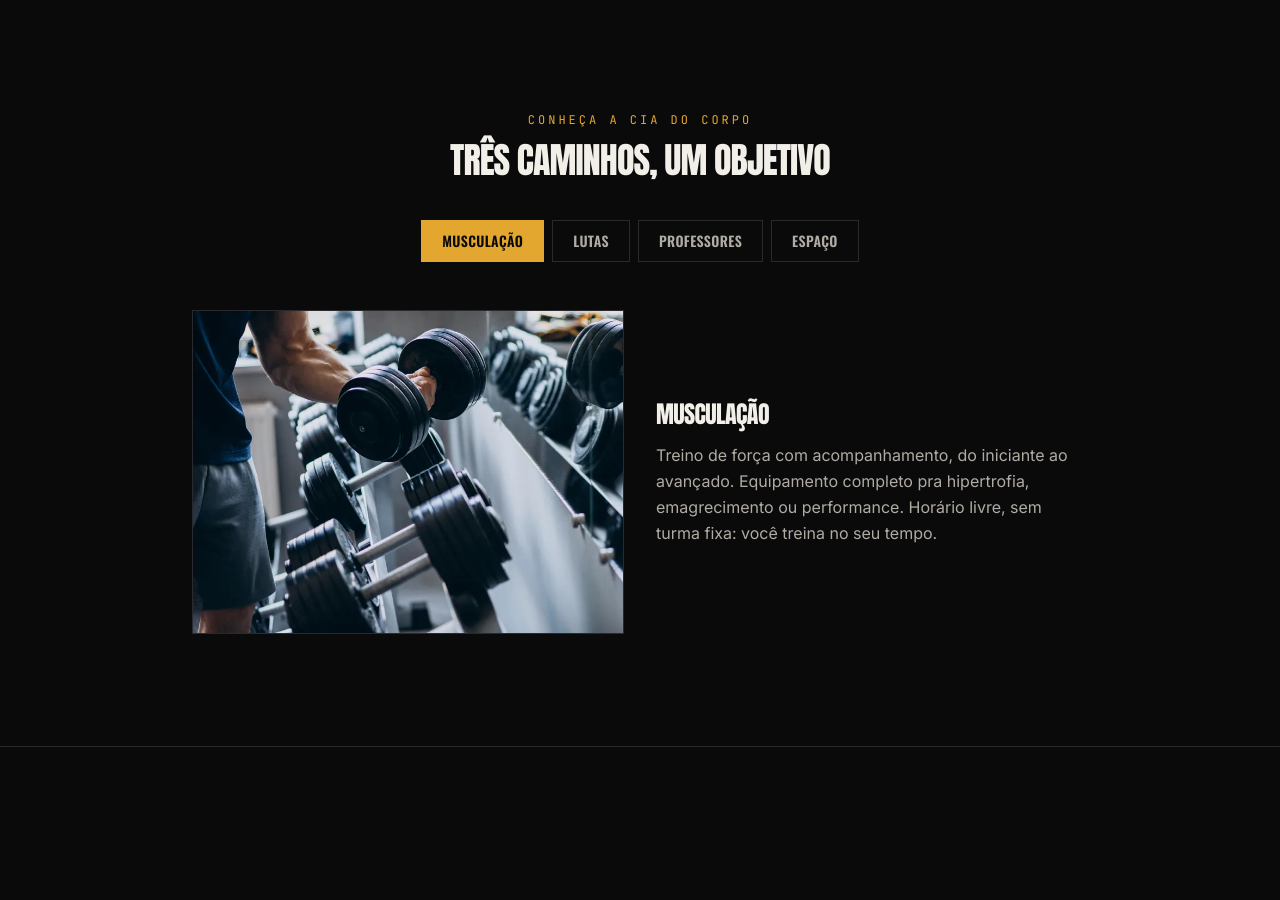
Test: SessoesTabs › aba Espaço mostra a galeria de fotos da estrutura
Click the tab "Espaço".
click(815, 241)  # box x1=771 y1=220 x2=859 y2=262
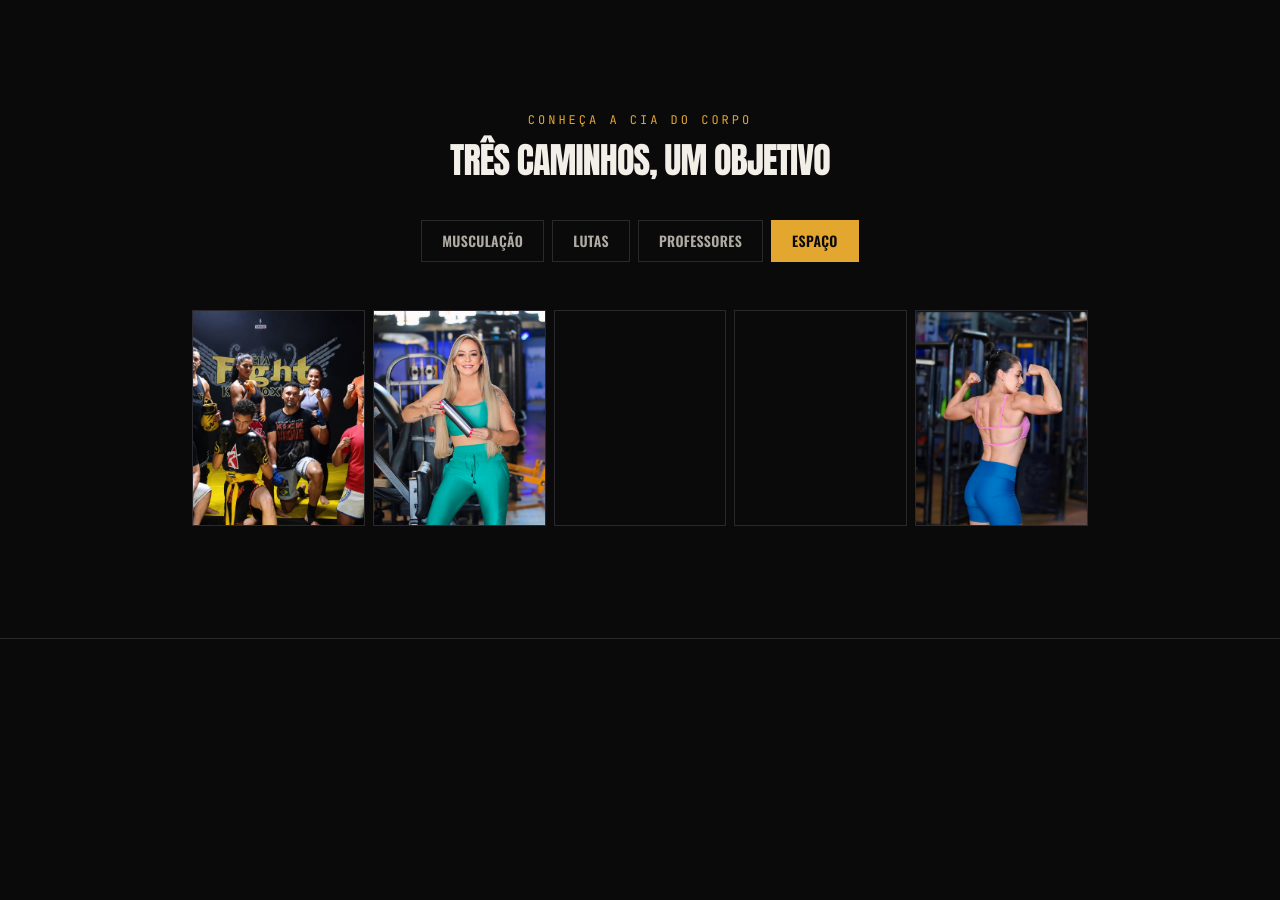
Expected: the picture named "Turma de kickboxing treinando" is shown, x1=192 y1=310 x2=365 y2=526
